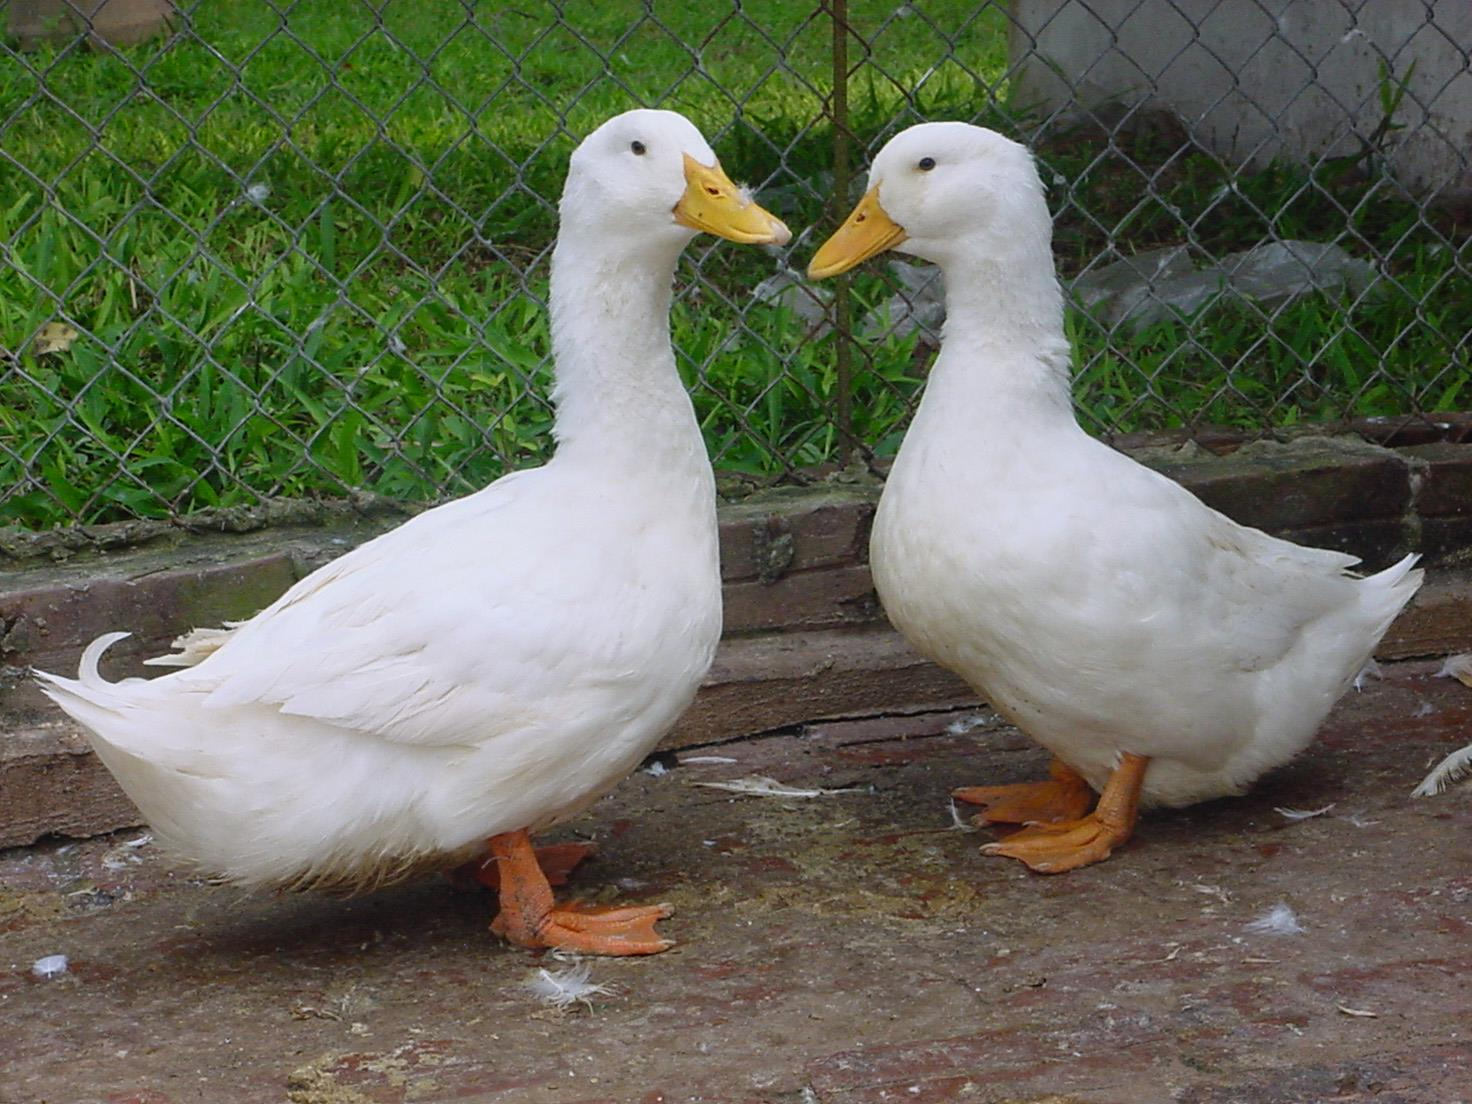Vịt/Duck: (793, 78, 1429, 921), (299, 42, 815, 1005)
